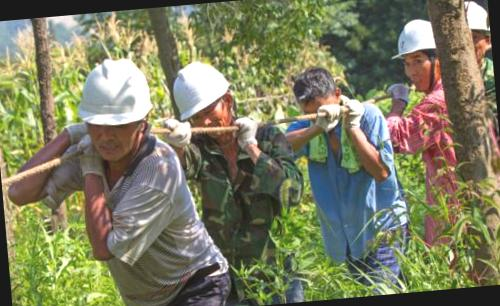no_helmet: (288, 62, 349, 126)
